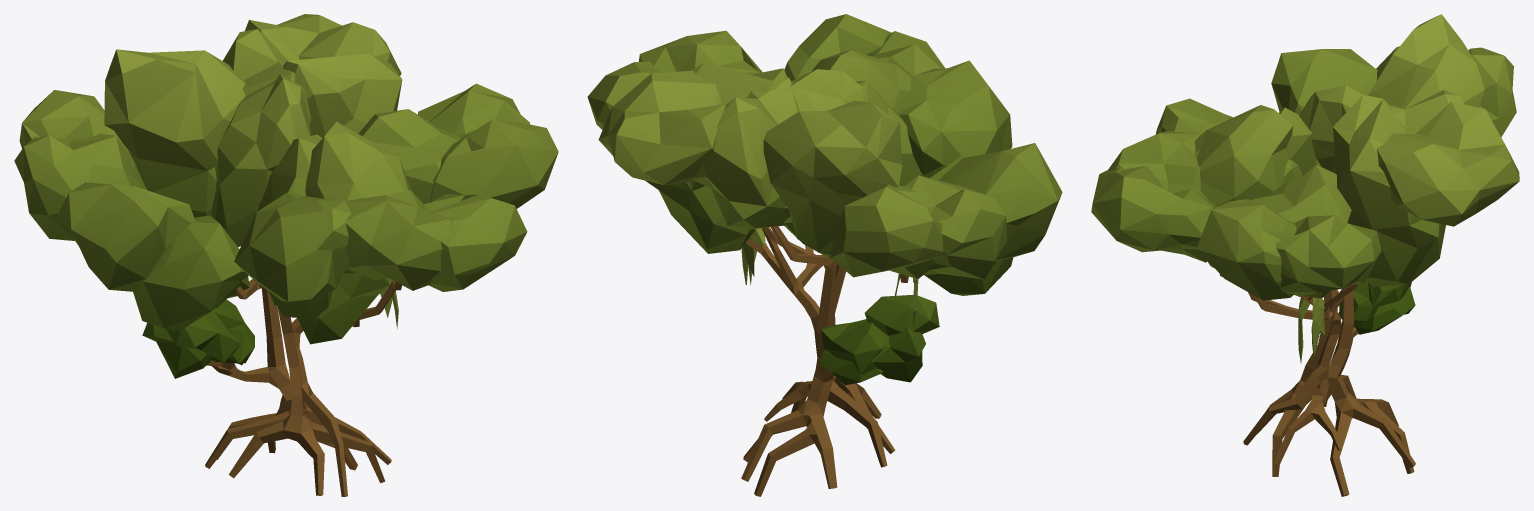
File: LP_Tree_09.fbx
3 views of the same model, side by side, from view 1: azimuth 30°, elevation 25°; view 2: azimuth 150°, elevation 25°; view 3: azimuth 270°, elevation 25° (orthographic). The views are drawn at different scales.
Parts seen in each view (by area): view 1: LP_Tree_09_LOD0; view 2: LP_Tree_09_LOD0; view 3: LP_Tree_09_LOD0.
Boxes of the visible parts, box(x1,y1,x2,y2) form: LP_Tree_09_LOD0: box(14, 14, 558, 496); LP_Tree_09_LOD0: box(587, 14, 1062, 496); LP_Tree_09_LOD0: box(1091, 14, 1519, 496).
Size of what is drawn, in the model's own units: 6.33 by 5.68 by 5.53.
